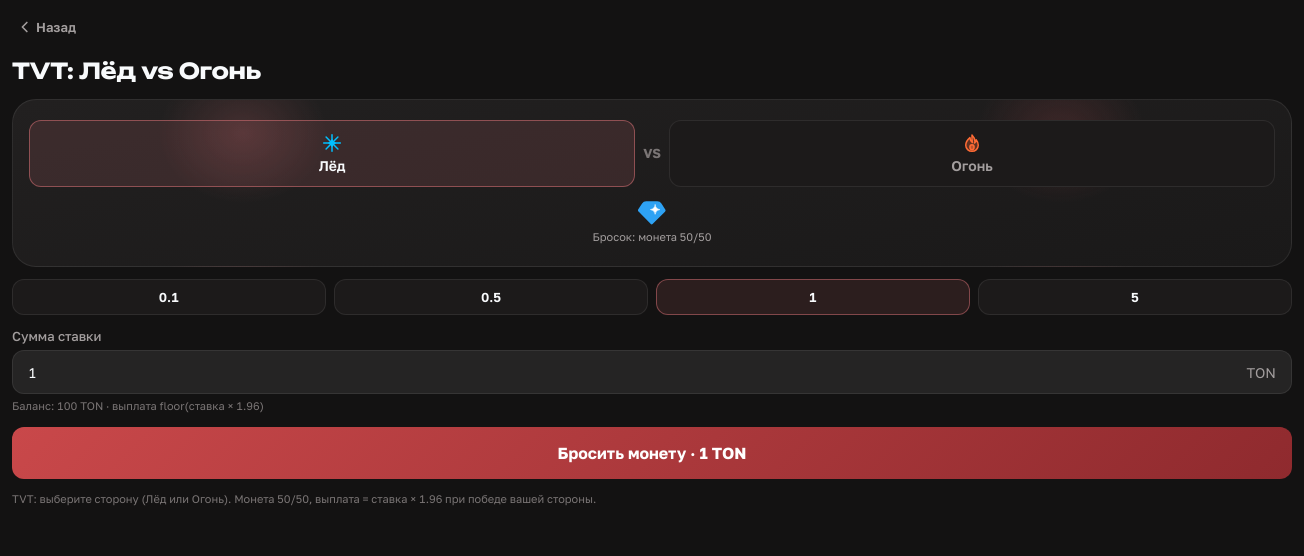
it: TvtScreen (5.3: стороны, монета 50/50 ×1.96) › бросок — проигрыш: честная строка и дельта −ставка
Click the button "Бросить монету · 1 TON".
click(652, 452)  # box 12,426 -> 1292,478
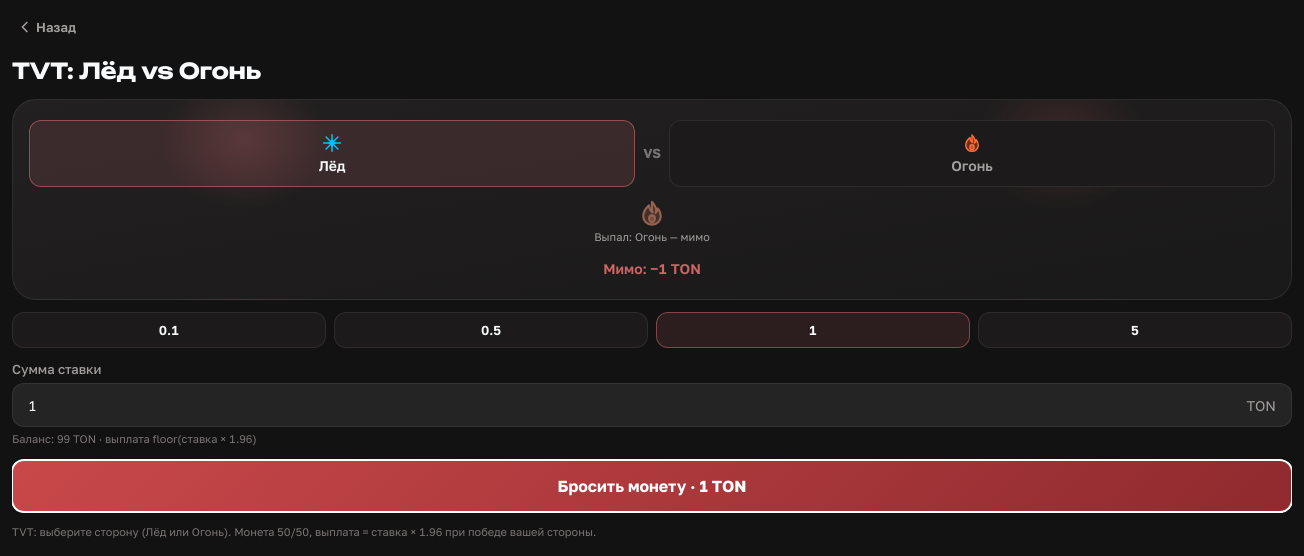
Now the text with test id "tvt-result" reads "Мимо: −1 TON", box 603,260 -> 701,276
Now the text "Выпал: Огонь — мимо" is shown, box 594,229 -> 710,246
